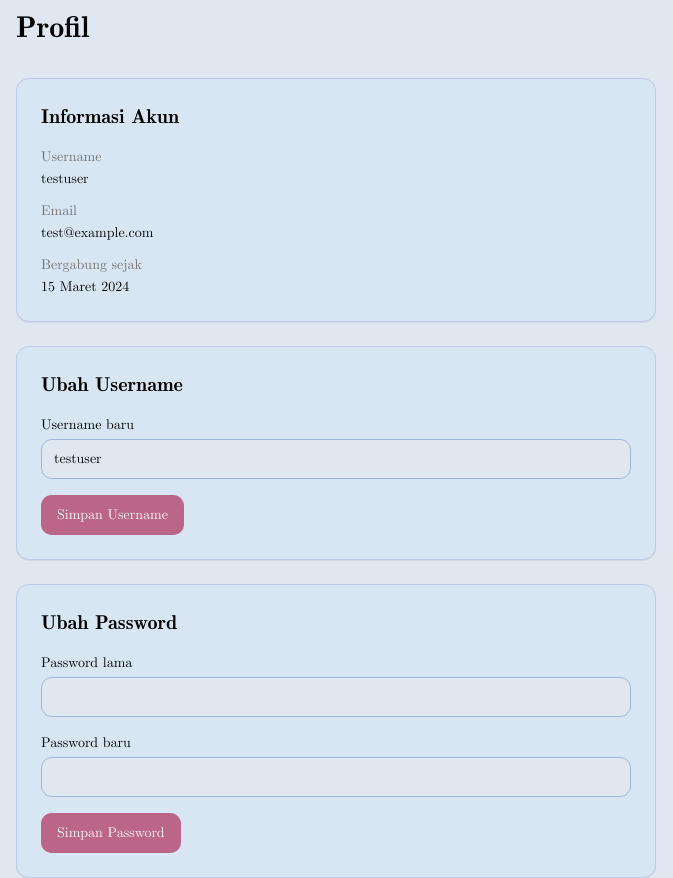
it: ProfilePage › ubah username › menampilkan error validasi ketika username dikosongkan
Clear the field labelled "Username baru" at (336, 459), box x1=41 y1=439 x2=631 y2=479
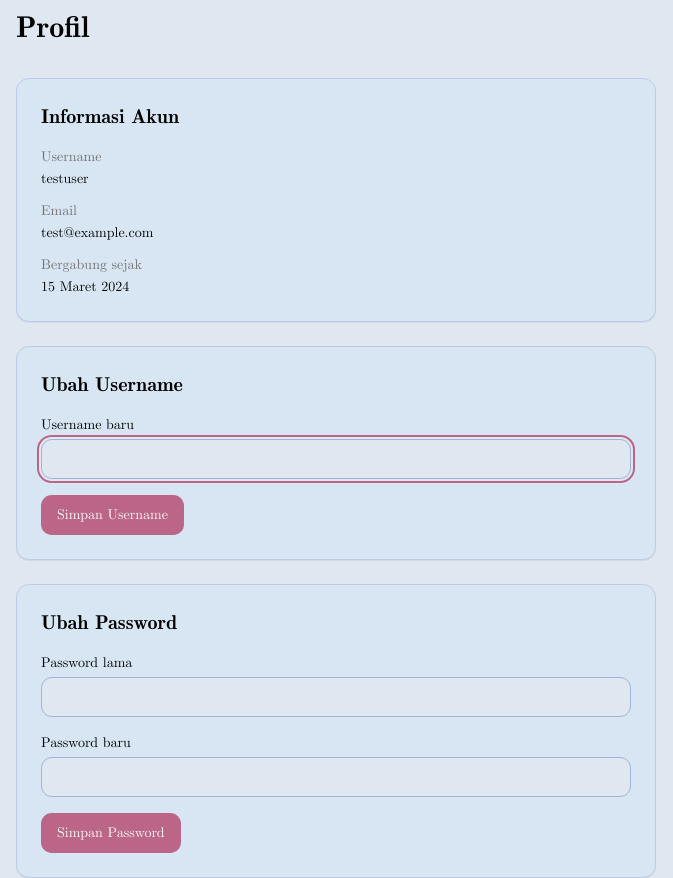
Click the button "Simpan Username" at (112, 515), box x1=41 y1=495 x2=184 y2=535
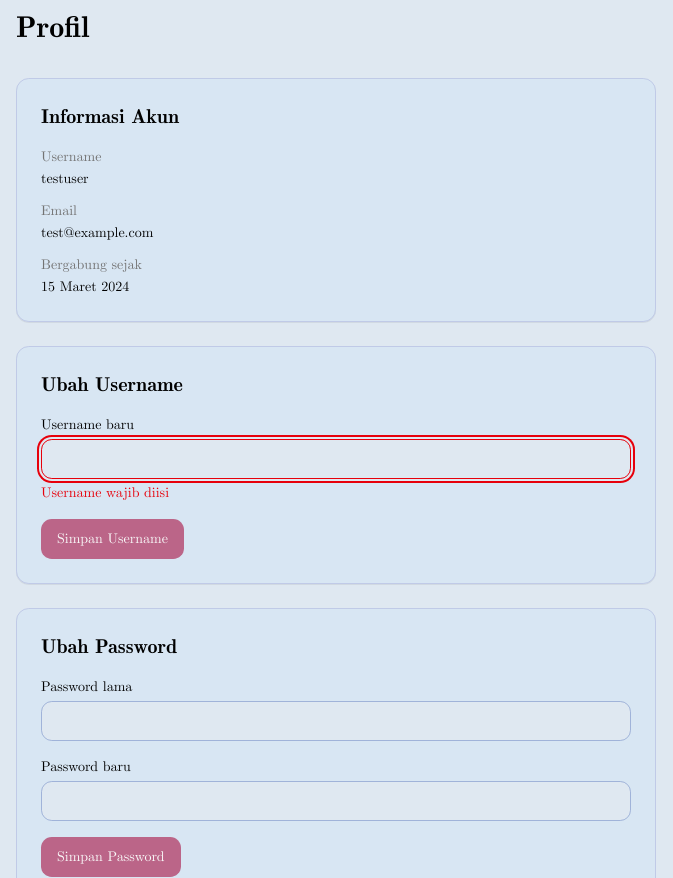
Result: the text "Username wajib diisi" is shown at x1=41 y1=486 x2=169 y2=500
